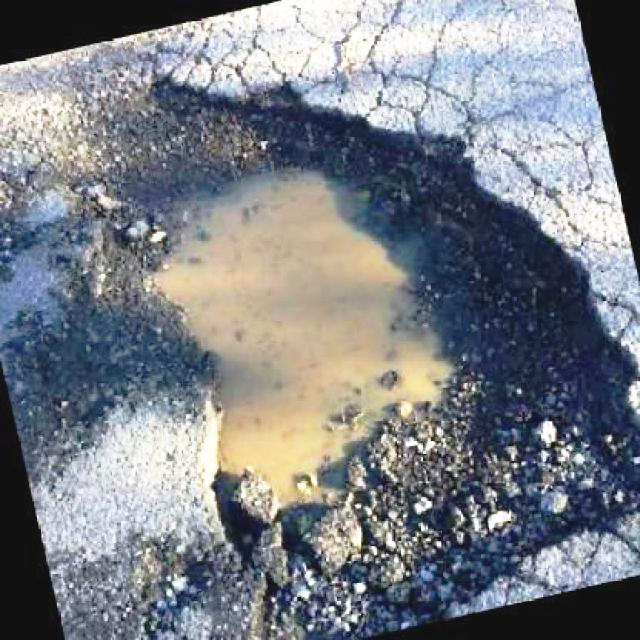pothole: (38, 57, 640, 640)
